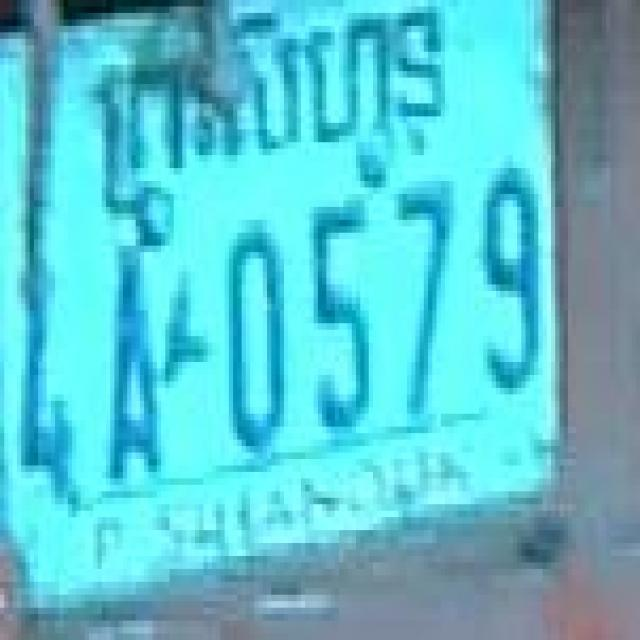Preah_Sihanouk: (94, 7, 442, 212)
